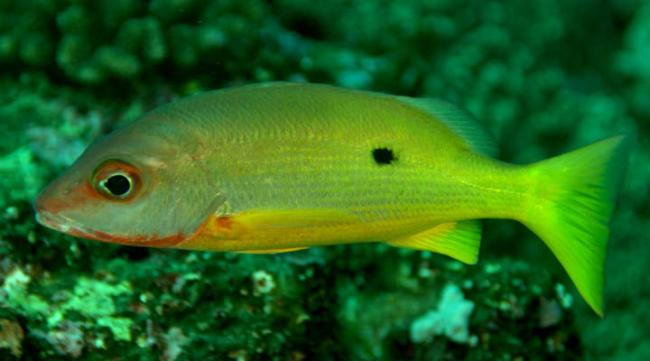fish: (35, 80, 628, 317)
